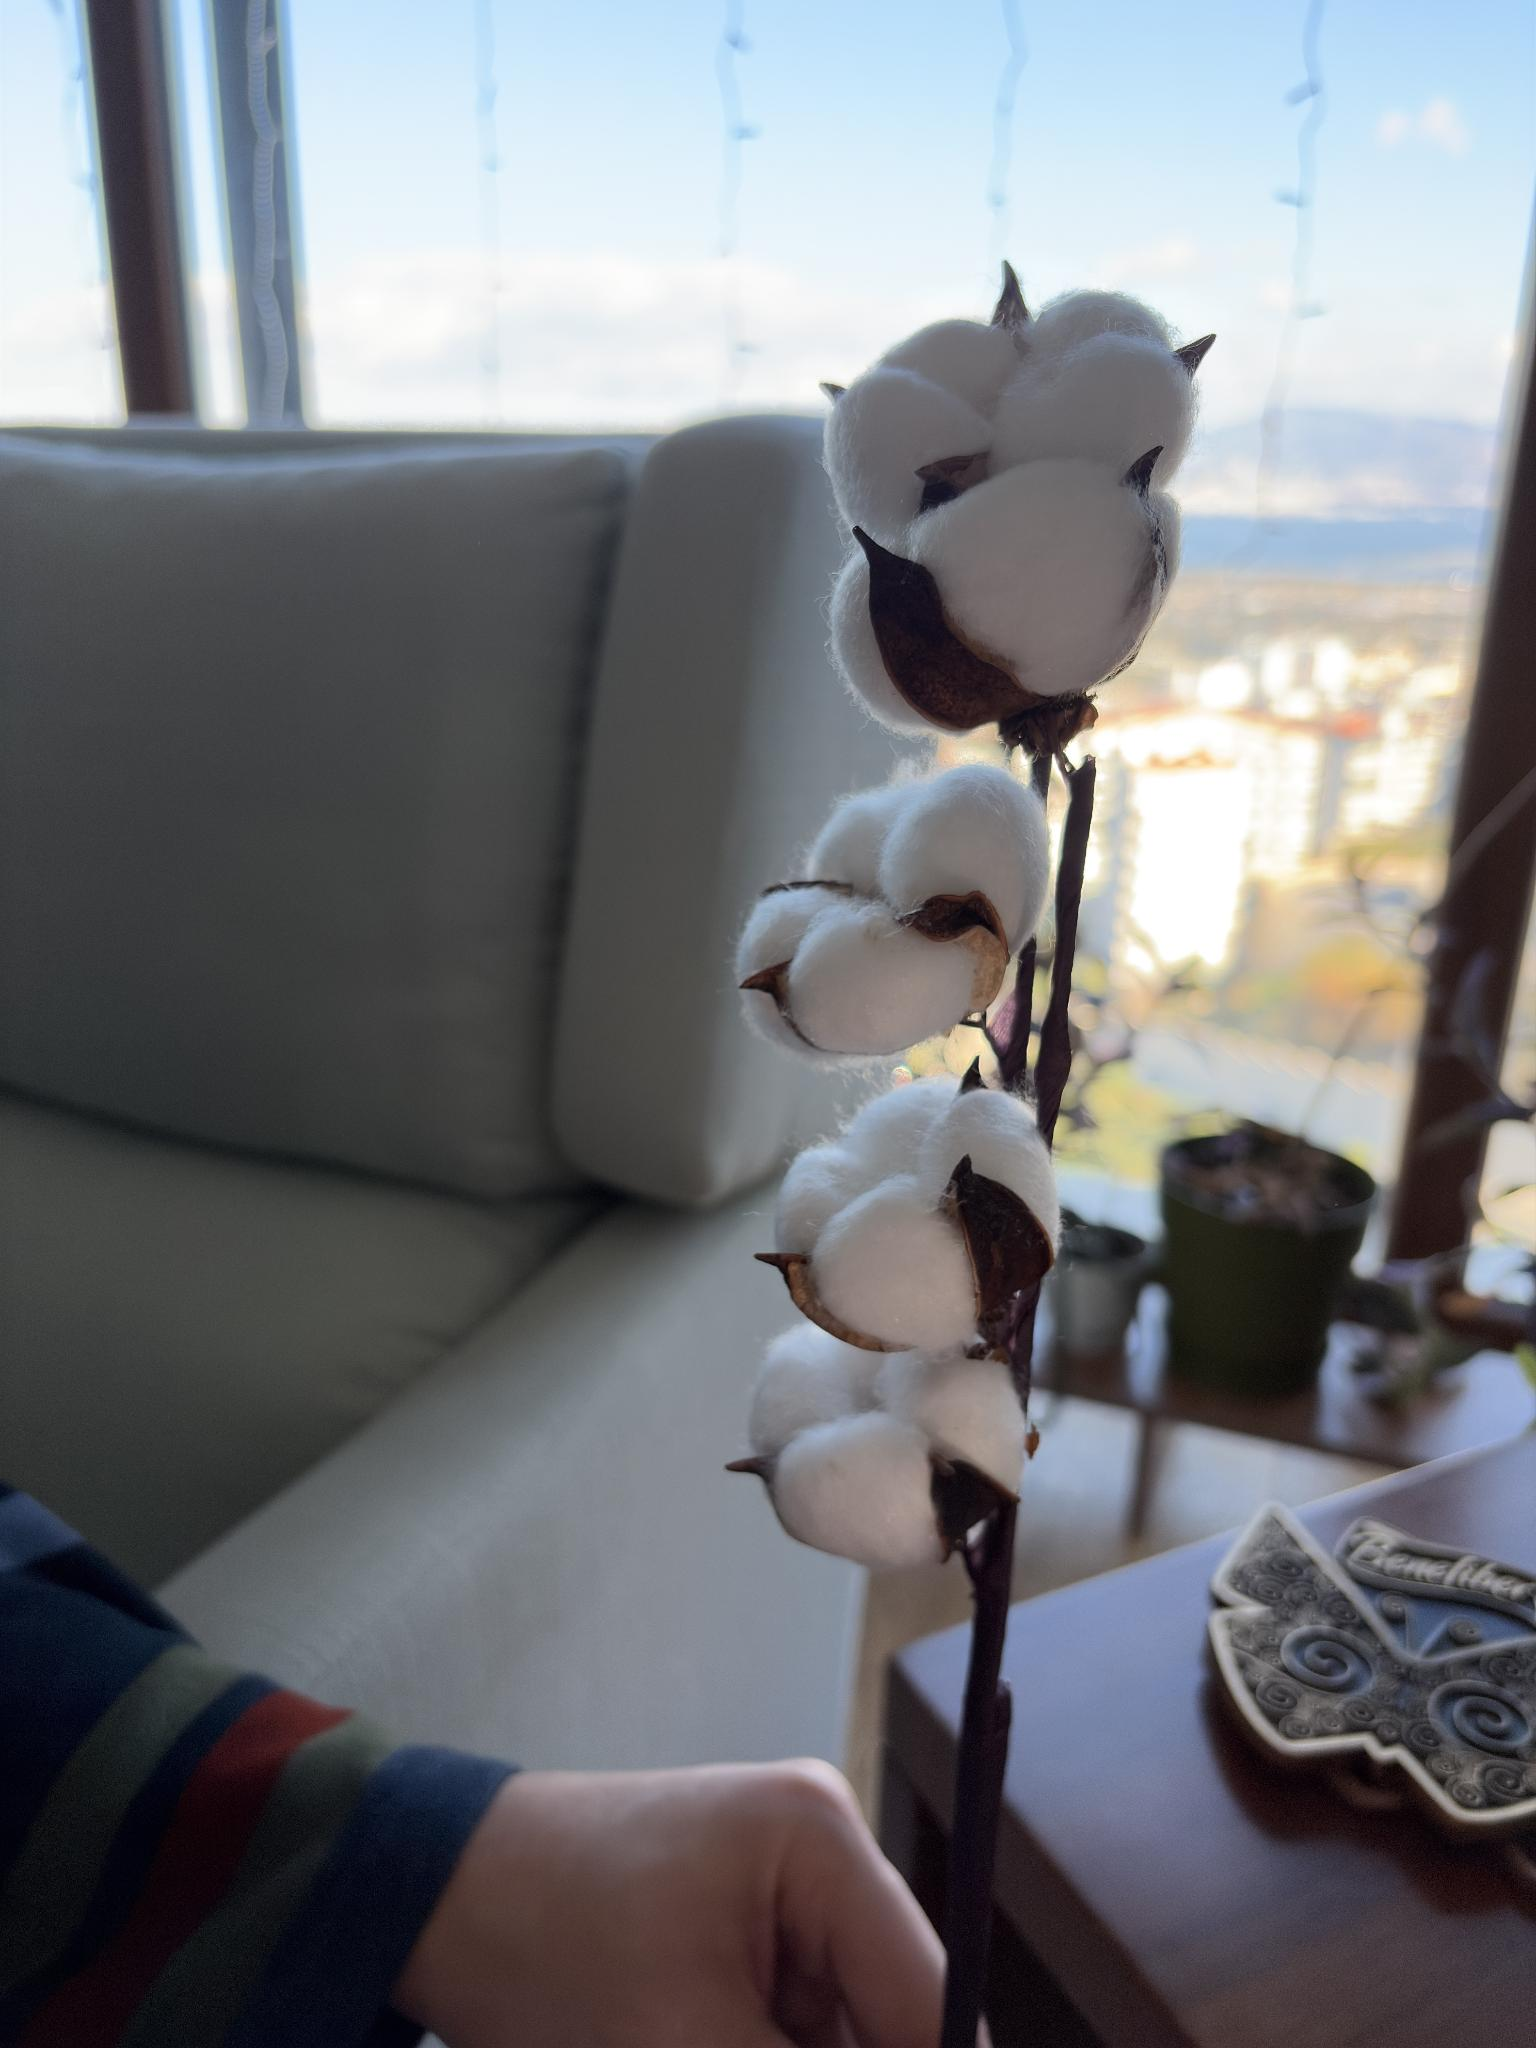cotton_boll: (899, 460, 1167, 697), (876, 766, 1049, 950), (992, 334, 1196, 487), (807, 1176, 976, 1350), (824, 366, 989, 543), (787, 903, 973, 1055), (770, 1409, 941, 1569), (918, 1089, 1058, 1243), (876, 1350, 1025, 1493), (749, 1322, 883, 1458), (829, 548, 923, 735), (878, 319, 1021, 413), (836, 1076, 958, 1180), (803, 784, 908, 897), (736, 885, 852, 987), (776, 1145, 873, 1253), (1026, 290, 1171, 355), (744, 985, 795, 1045)
cotton_boll-cluster: (820, 277, 1199, 751), (726, 771, 1057, 1066), (765, 1068, 1071, 1366), (749, 1313, 1034, 1577)
